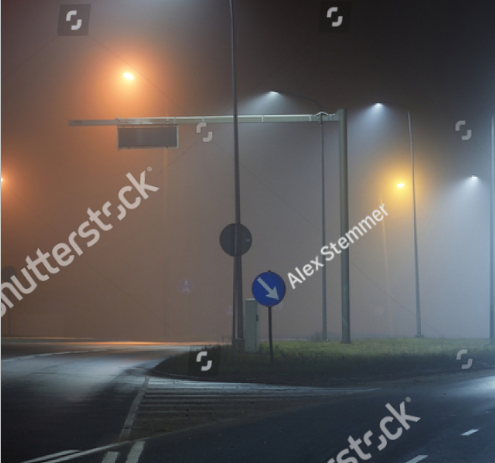Keep right: (238, 264, 295, 308)
